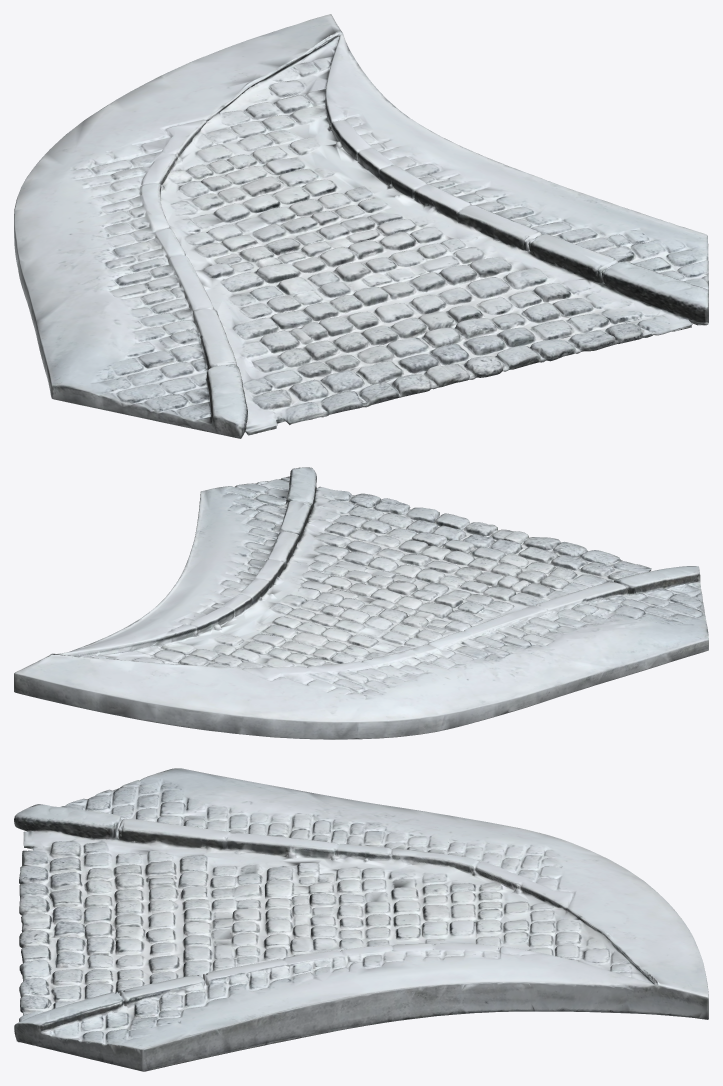
The model's file is ground.glb.
3 views of the same model, one above another, from view 1: azimuth 30°, elevation 25°; view 2: azimuth 150°, elevation 25°; view 3: azimuth 270°, elevation 25° (orthographic). The views are drawn at different scales.
Parts seen in each view (by area): view 1: tripo_node_d4548f71-e012-495c-bf5d-c968ed5bcc0e; view 2: tripo_node_d4548f71-e012-495c-bf5d-c968ed5bcc0e; view 3: tripo_node_d4548f71-e012-495c-bf5d-c968ed5bcc0e.
Boxes of the visible parts, <box> form: tripo_node_d4548f71-e012-495c-bf5d-c968ed5bcc0e: <box>14,14,708,438</box>; tripo_node_d4548f71-e012-495c-bf5d-c968ed5bcc0e: <box>14,467,708,739</box>; tripo_node_d4548f71-e012-495c-bf5d-c968ed5bcc0e: <box>14,768,708,1071</box>.
Size of the model in its own units: 0.9702 by 0.0775 by 0.9799.
Materials: 1 (1 with a texture image).
